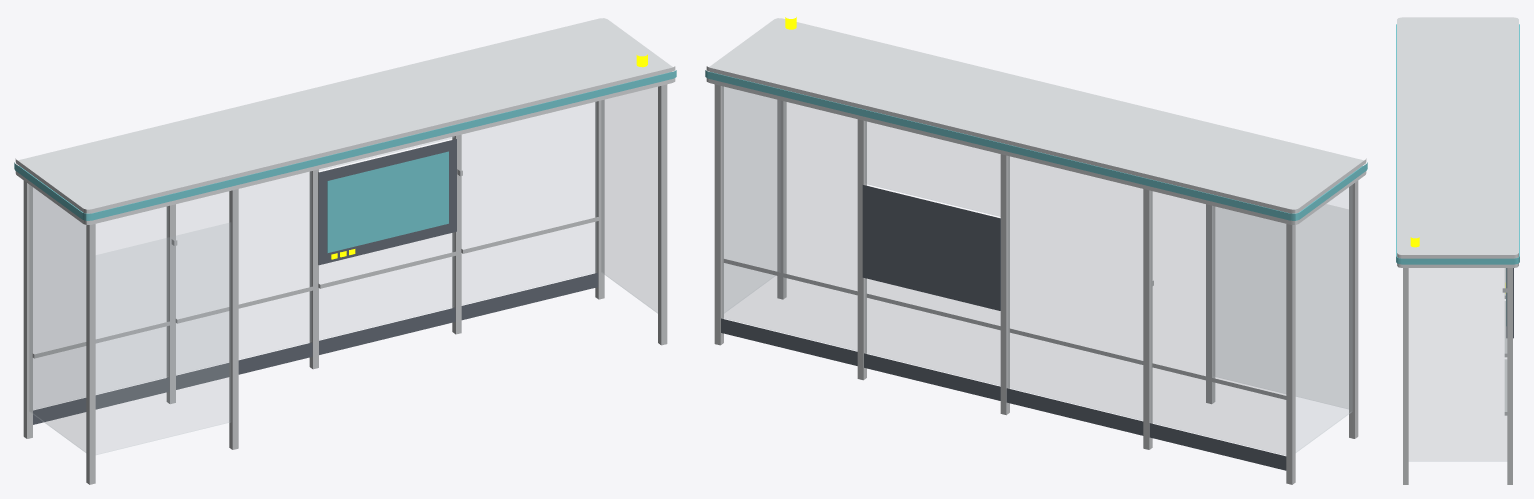
File: ext_tram_shelter_05.glb
3 views of the same model, side by side, from view 1: azimuth 30°, elevation 25°; view 2: azimuth 150°, elevation 25°; view 3: azimuth 270°, elevation 25° (orthographic). The views are drawn at different scales.
Visible parts, largest first — view 1: Rear_Glass, Roof, Front_Windbreak, Side_Glass, Mullions, Timetable_Screen, Kick_Rails, Civic_Band, Timetable_Frame, Lean_Rail; view 2: Rear_Glass, Roof, Side_Glass, Front_Windbreak, Mullions, Timetable_Frame, Kick_Rails, Civic_Band, Lean_Rail; view 3: Roof, Side_Glass, Mullions, Civic_Band, Lean_Rail, Timetable_Frame.
Boxes of the visible parts, bbox=[...] form: Rear_Glass: bbox=[33, 102, 596, 409]; Roof: bbox=[15, 18, 675, 224]; Front_Windbreak: bbox=[96, 222, 230, 454]; Side_Glass: bbox=[29, 87, 657, 452]; Mullions: bbox=[23, 84, 667, 484]; Timetable_Screen: bbox=[327, 151, 448, 252]; Kick_Rails: bbox=[33, 273, 598, 424]; Civic_Band: bbox=[14, 70, 676, 220]; Timetable_Frame: bbox=[318, 139, 456, 265]; Lean_Rail: bbox=[32, 216, 600, 358]; Rear_Glass: bbox=[722, 86, 1285, 455]; Roof: bbox=[706, 18, 1366, 224]; Side_Glass: bbox=[724, 87, 1352, 452]; Front_Windbreak: bbox=[1214, 204, 1348, 408]; Mullions: bbox=[714, 84, 1358, 484]; Timetable_Frame: bbox=[862, 185, 1000, 310]; Kick_Rails: bbox=[721, 318, 1286, 470]; Civic_Band: bbox=[705, 70, 1367, 220]; Lean_Rail: bbox=[723, 259, 1286, 399]; Roof: bbox=[1397, 17, 1518, 267]; Side_Glass: bbox=[1409, 268, 1506, 461]; Mullions: bbox=[1403, 268, 1512, 484]; Civic_Band: bbox=[1396, 24, 1519, 264]; Lean_Rail: bbox=[1504, 268, 1507, 415]; Timetable_Frame: bbox=[1506, 268, 1513, 338].
Bounding box in the file's own units: 6.02 × 2.8 × 1.3.
